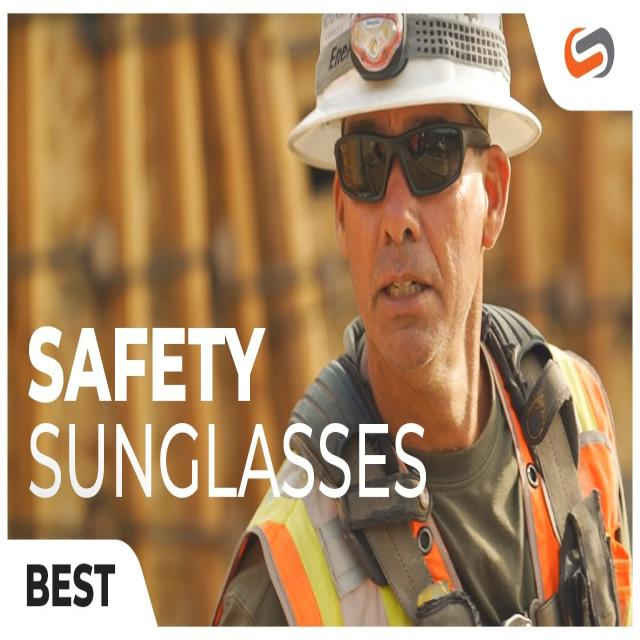goggles: (327, 121, 492, 227)
helmet: (290, 17, 543, 179)
vest: (276, 322, 622, 640)
